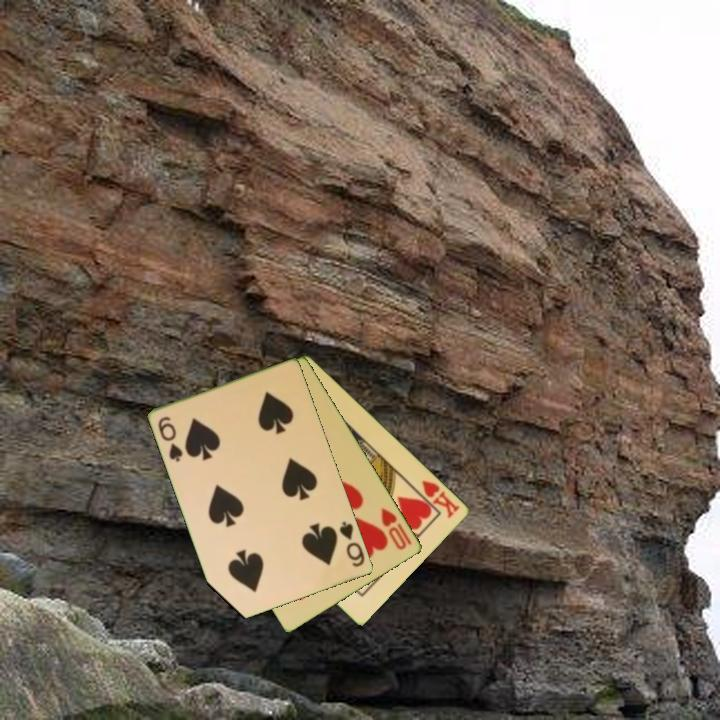10h: (378, 504, 415, 553)
6s: (336, 518, 368, 570), (155, 413, 186, 465)
Kh: (410, 476, 463, 521)
